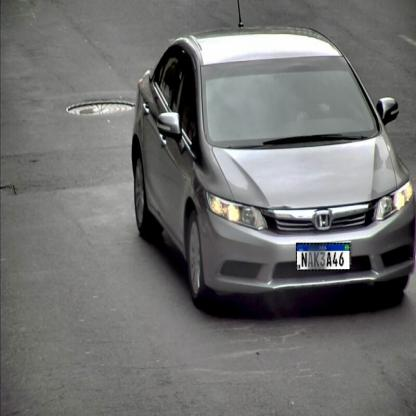PlacaM: (296, 243, 350, 271)
